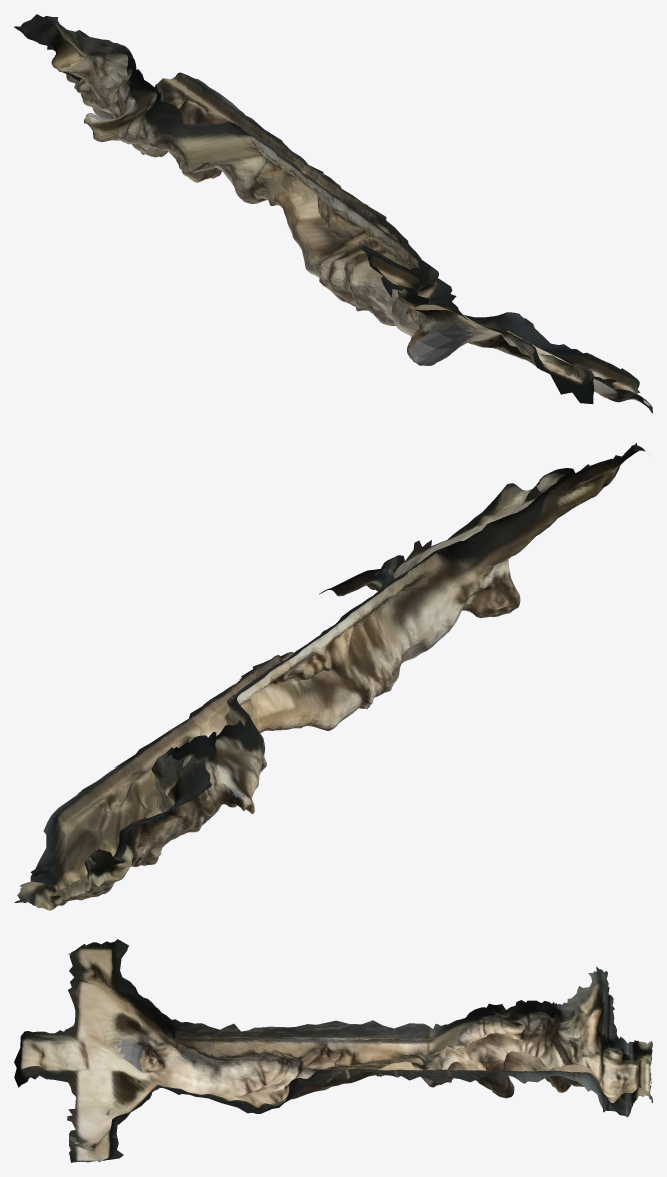
Rendered from domFigure_01.obj.
The picture shows the model from 3 angles, top to bottom: view 1: azimuth 30°, elevation 25°; view 2: azimuth 150°, elevation 25°; view 3: azimuth 270°, elevation 25°; orthographic projection. The views are drawn at different scales.
Size of the model in its own units: 8.97 by 6.29 by 26.36.
2 materials, 1 textured.
